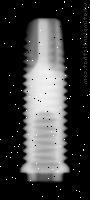Nobel Biocare: (20, 17, 71, 182)
